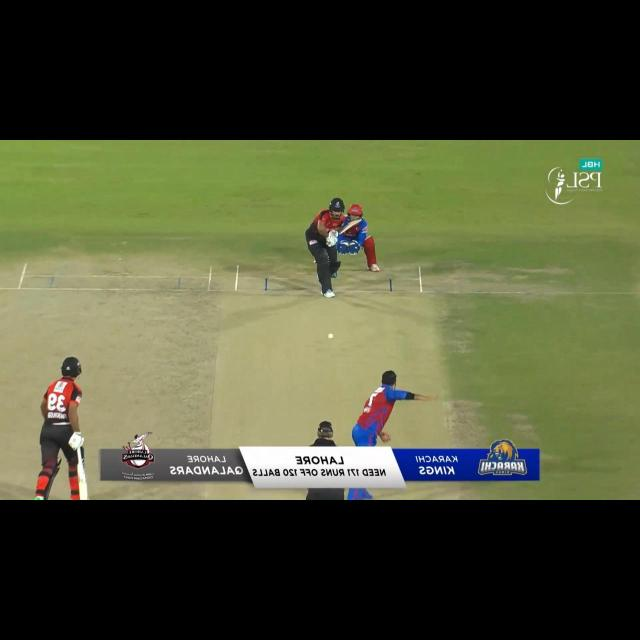bat: (335, 217, 363, 236), (77, 462, 90, 502)
toe: (354, 217, 362, 224), (78, 495, 89, 500)
